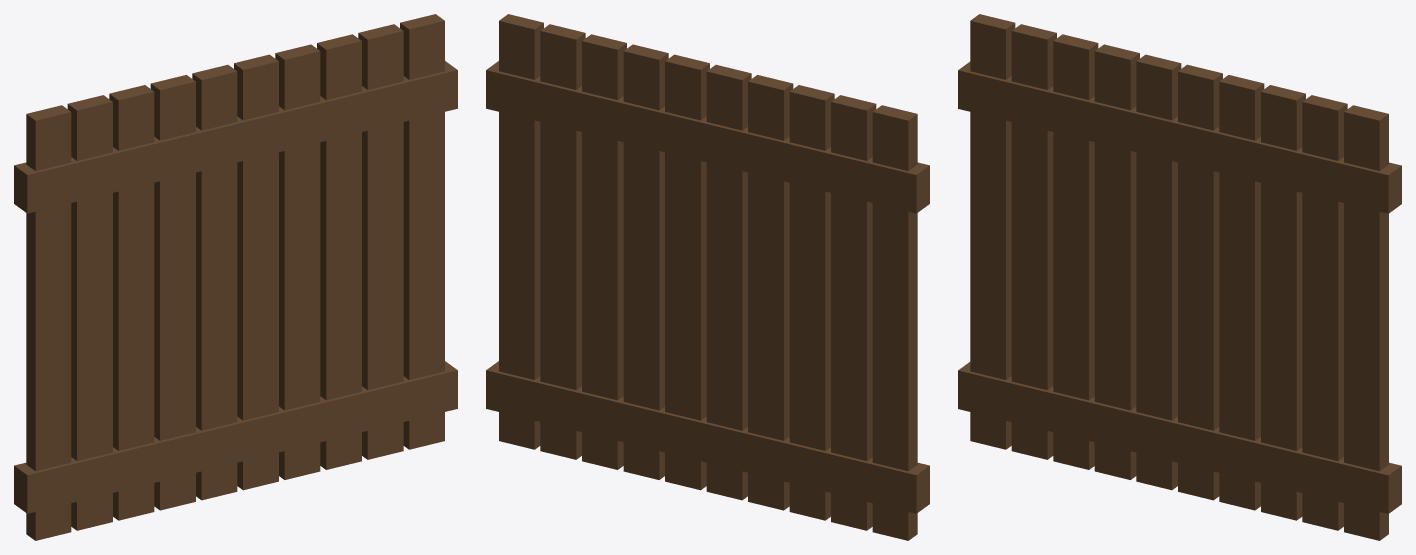
Rendered from Fence2.fbx.
The picture shows the model from 3 angles, left to right: view 1: azimuth 30°, elevation 25°; view 2: azimuth 150°, elevation 25°; view 3: azimuth 330°, elevation 25°; orthographic projection.
Visible parts, largest first — view 1: Cube; view 2: Cube; view 3: Cube.
Boxes of the visible parts, x1,y1,x2,y2 form: Cube: (14, 14, 457, 540); Cube: (486, 14, 929, 540); Cube: (958, 14, 1401, 540).
Bounding box in the file's own units: 2405 × 2244 × 129.
